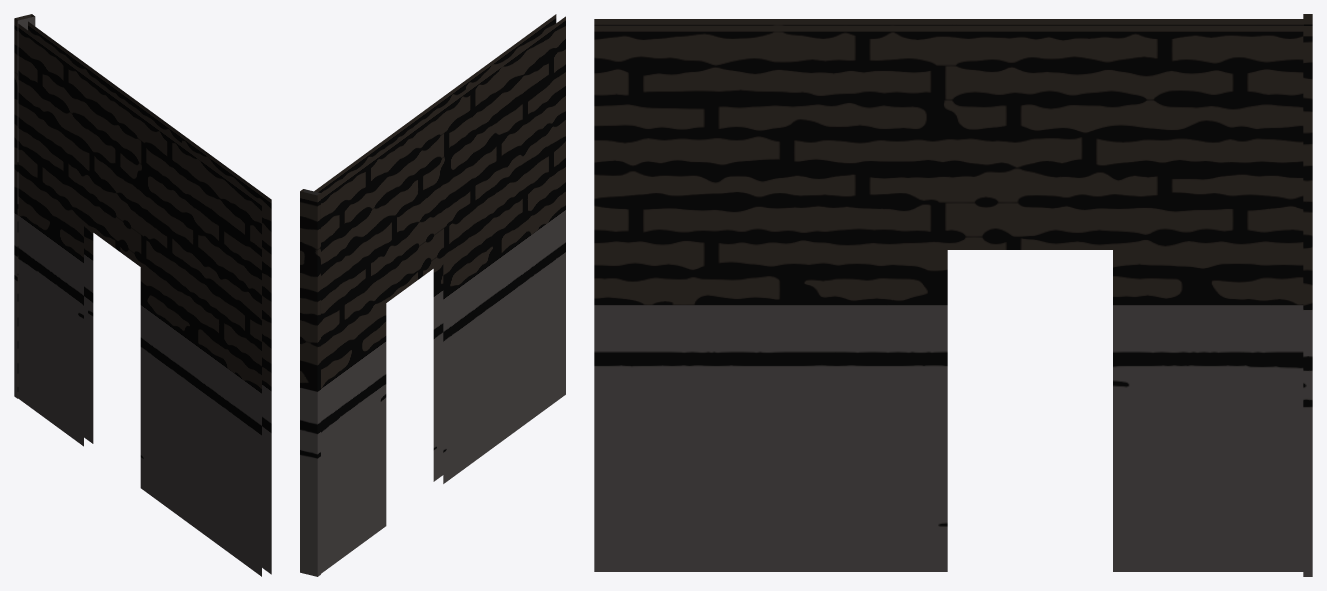
Rendered from WallDoorway.fbx.
3 views of the same model, side by side, from view 1: azimuth 30°, elevation 25°; view 2: azimuth 150°, elevation 25°; view 3: azimuth 270°, elevation 25° (orthographic). The views are drawn at different scales.
Parts seen in each view (by area): view 1: Doorway; view 2: Doorway; view 3: Doorway.
Boxes of the visible parts, x1,y1,x2,y2 form: Doorway: (14, 14, 271, 576); Doorway: (300, 14, 565, 576); Doorway: (594, 14, 1312, 576).
Size of the model in its own units: 0.488 by 10.08 by 11.92.
